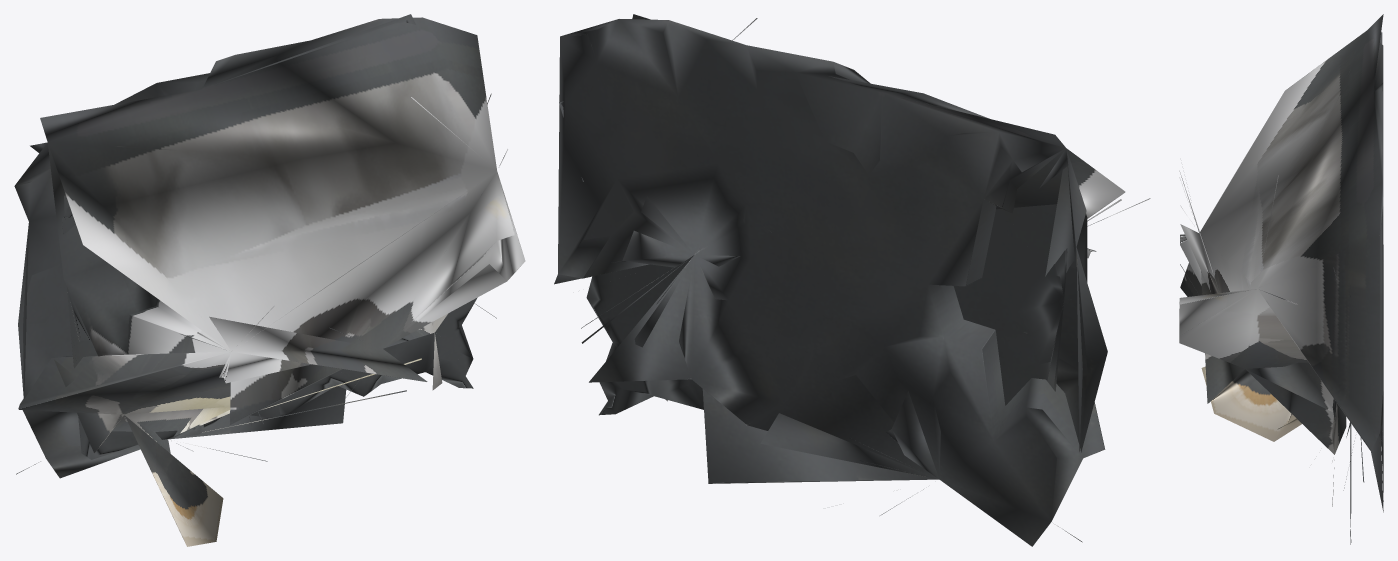
The model's file is studentcafe_PaperTowelRoll.glb.
3 renders of one model, left to right at view 1: azimuth 30°, elevation 25°; view 2: azimuth 150°, elevation 25°; view 3: azimuth 270°, elevation 25°, orthographic. The views are drawn at different scales.
Parts seen in each view (by area): view 1: world; view 2: world; view 3: world.
Boxes of the visible parts, x1,y1,x2,y2 form: world: (14,14,525,546); world: (554,14,1150,546); world: (1179,14,1383,544).
Size of the model in its own units: 1 by 0.854 by 0.3922.
1 material, 1 textured.
